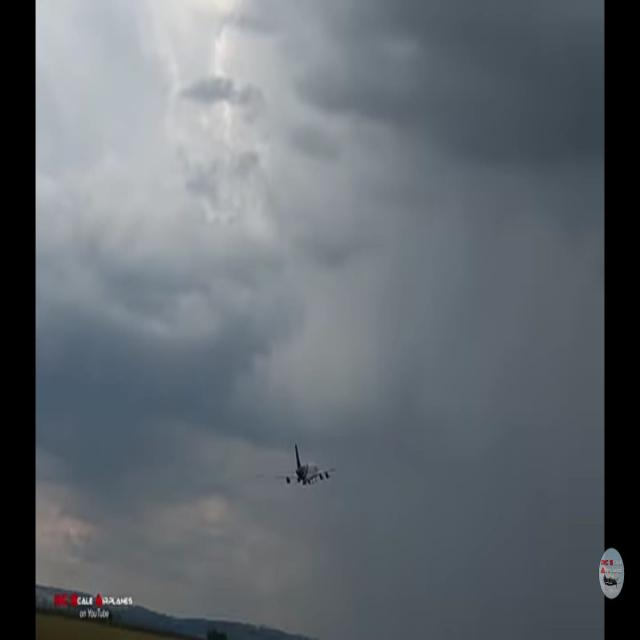iha: (288, 442, 304, 487)
